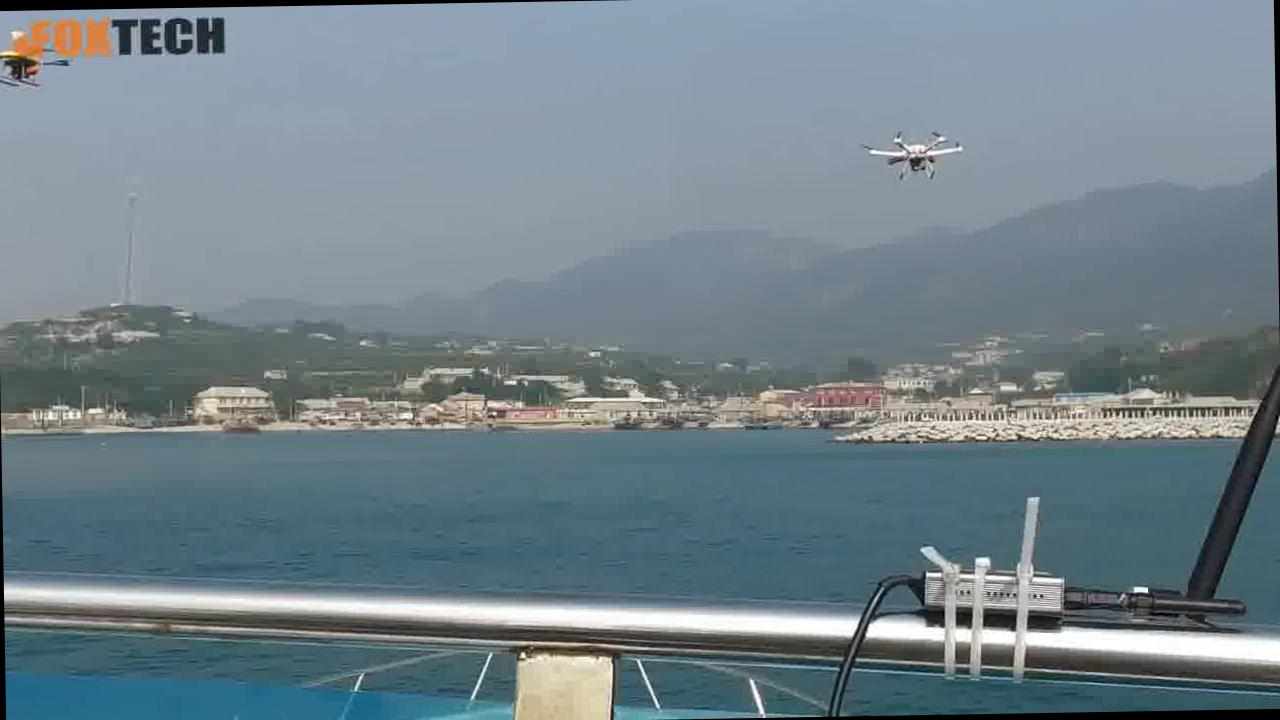drone: (864, 128, 974, 189)
